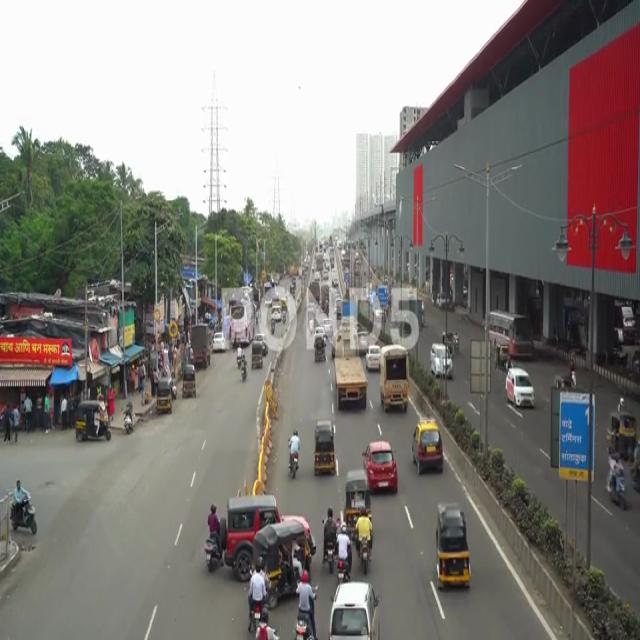car: (327, 582, 383, 640), (410, 419, 444, 476), (367, 436, 400, 492), (507, 370, 532, 414)
motorbike: (11, 478, 40, 539), (293, 574, 317, 640), (203, 500, 220, 578), (605, 453, 626, 512), (357, 509, 374, 577), (336, 525, 352, 581), (286, 429, 300, 481)
rikshaw: (434, 498, 472, 592), (76, 400, 112, 446), (314, 419, 338, 479)
truck: (378, 347, 409, 415)
